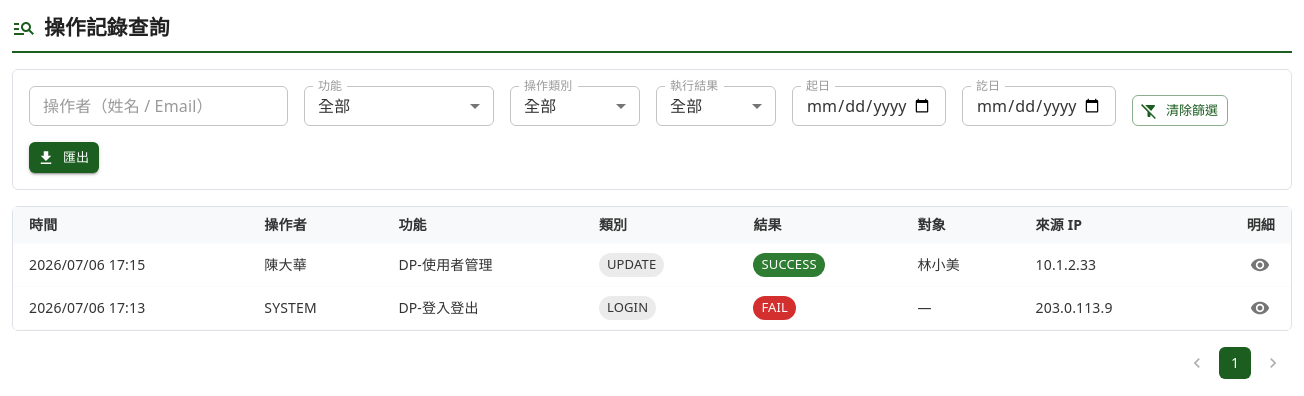
AuditPage 篩選選項來自後端（#477） › 選項端點失敗時下拉為空、列表降級為原碼，不退回任何硬編碼清單
Expected: the text "DP-使用者管理" is shown, [382, 243, 583, 286]
Expected: the text "SUCCESS" is shown, [761, 255, 817, 273]
Click the dropdown named "功能" at (334, 106), box [318, 95, 350, 117]
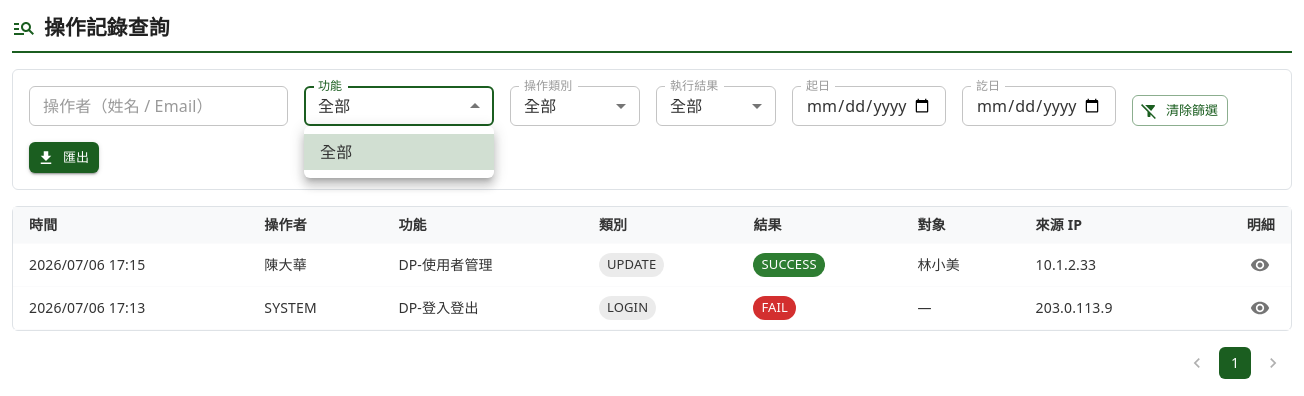
Expected: the number of options is 1, [304, 134, 494, 170]
